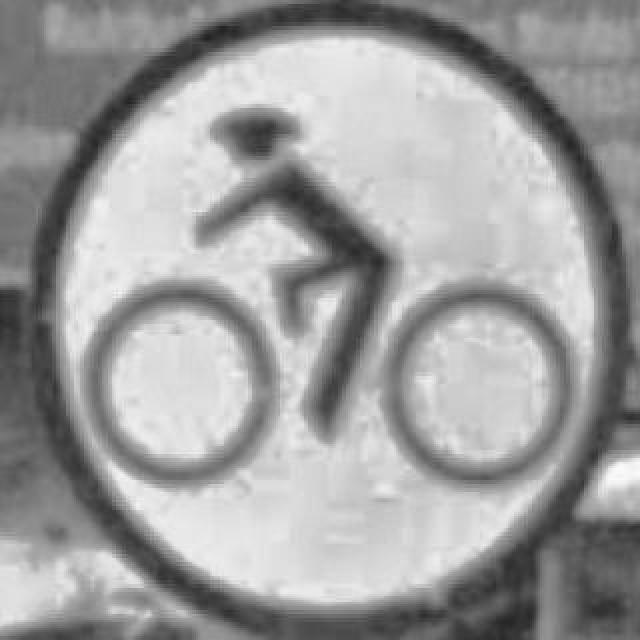bike lane: (26, 0, 622, 636)
